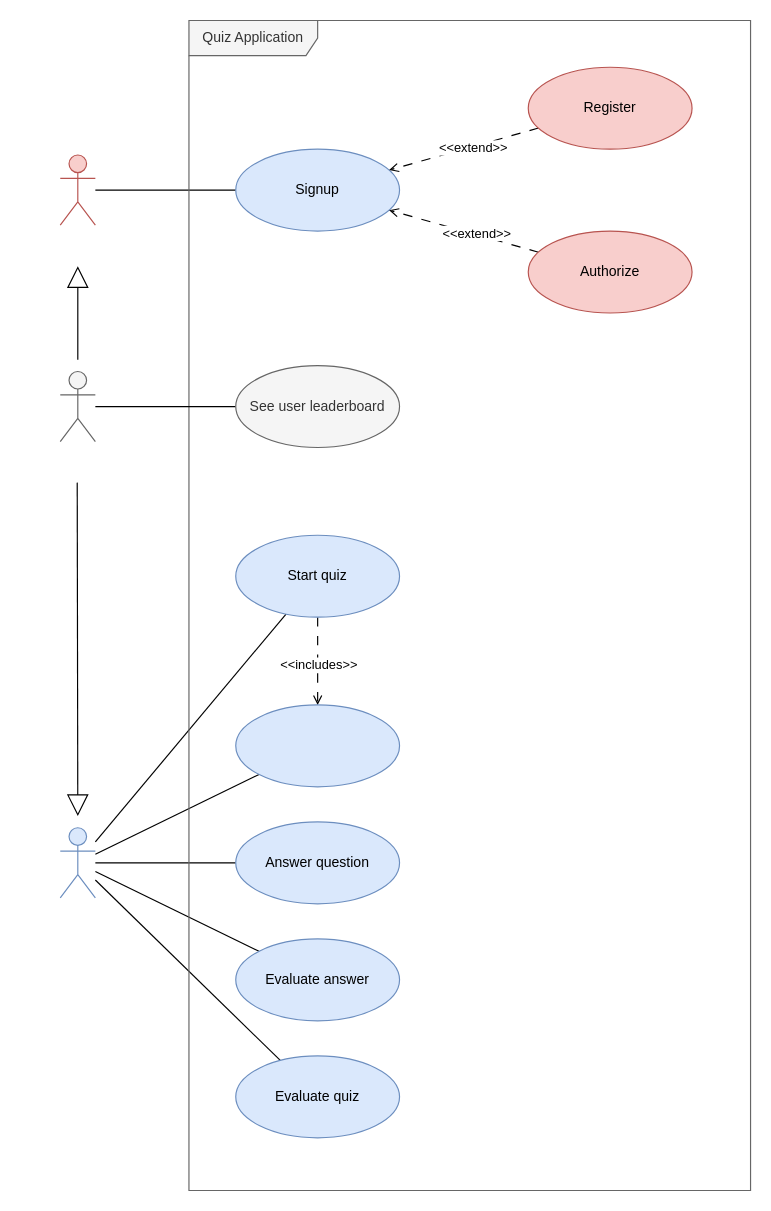
The diagram is 771 pixels wide and 1211 high, and some of its shapes have lost their labels. The shapes that lost their labels are listed below. From the top down, each one's centre as x and y in pixels, then its label:
At point 77,189: "Unauthorised user".
At point 77,406: "User".
At point 317,745: "Get question".
At point 77,862: "Authorised user".
